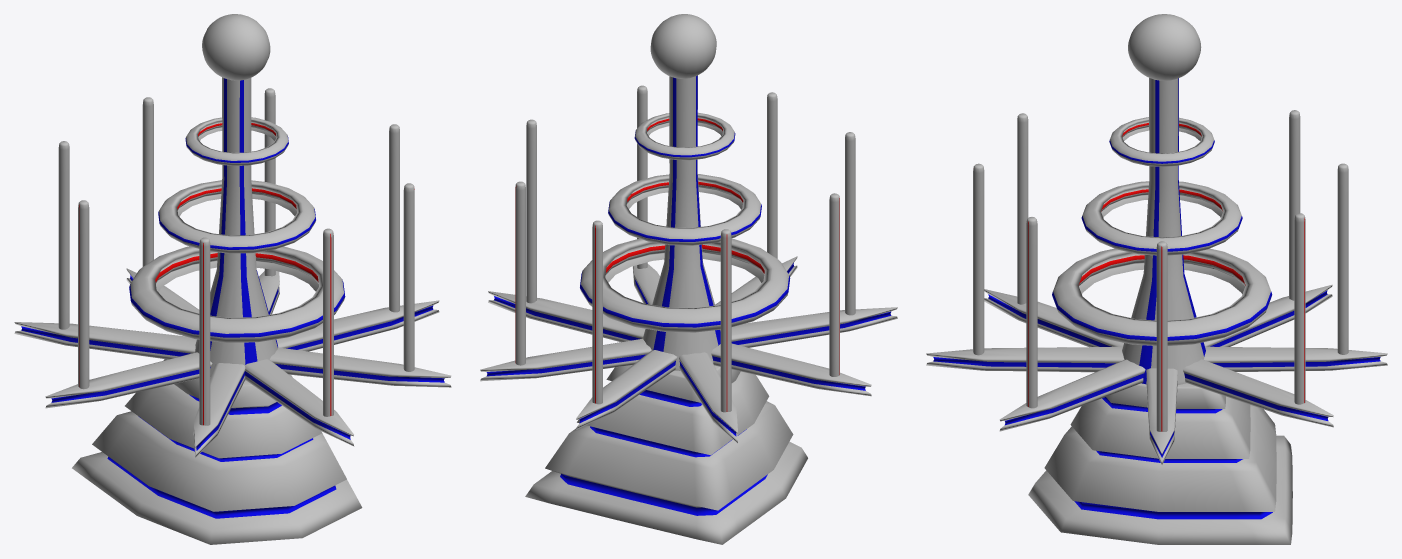
File: LightningTurret_MatGlow.fbx
The picture shows the model from 3 angles, left to right: view 1: azimuth 30°, elevation 25°; view 2: azimuth 150°, elevation 25°; view 3: azimuth 270°, elevation 25°; orthographic projection. The views are drawn at different scales.
Parts seen in each view (by area): view 1: polySurface92, pCube22, pTorus6, pCylinder9, pTorus7, pSphere1, pTorus8; view 2: polySurface92, pCube22, pCylinder9, pTorus6, pTorus7, pSphere1, pTorus8; view 3: polySurface92, pCube22, pTorus6, pCylinder9, pTorus7, pSphere1, pTorus8.
Boxes of the visible parts, bbox=[...] form: polySurface92: bbox=[14, 88, 451, 457]; pCube22: bbox=[72, 359, 362, 544]; pTorus6: bbox=[129, 246, 345, 342]; pCylinder9: bbox=[195, 77, 277, 380]; pTorus7: bbox=[158, 180, 315, 253]; pSphere1: bbox=[202, 14, 270, 80]; pTorus8: bbox=[185, 117, 288, 165]; polySurface92: bbox=[480, 85, 897, 443]; pCube22: bbox=[525, 365, 807, 544]; pCylinder9: bbox=[643, 75, 720, 370]; pTorus6: bbox=[580, 238, 790, 332]; pTorus7: bbox=[608, 174, 761, 245]; pSphere1: bbox=[650, 14, 716, 78]; pTorus8: bbox=[634, 112, 735, 160]; polySurface92: bbox=[926, 110, 1387, 464]; pCube22: bbox=[1028, 383, 1292, 544]; pTorus6: bbox=[1052, 248, 1272, 345]; pCylinder9: bbox=[1122, 78, 1205, 384]; pTorus7: bbox=[1081, 181, 1242, 255]; pSphere1: bbox=[1128, 14, 1201, 80]; pTorus8: bbox=[1109, 117, 1214, 166].
Size of the model in its own units: 45.95 by 52.6 by 45.95.
